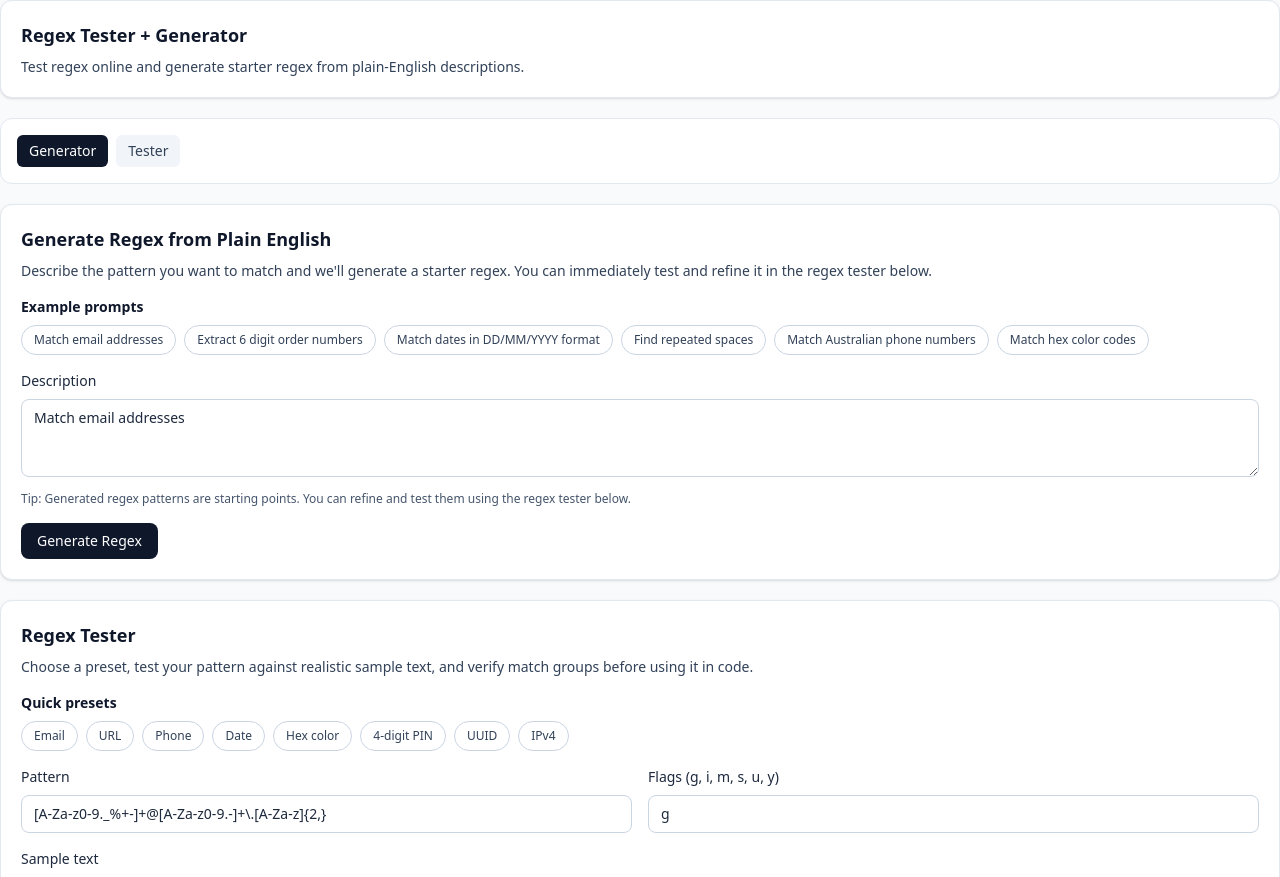
Test: RegexTesterTool › generates a suggestion and applies it to tester
The image size is (1280, 877).
Replace the text in the text box labelled "Description" with "Extract 6 digit order numbers". click: {"x": 640, "y": 438}
box: [21, 399, 1259, 477]
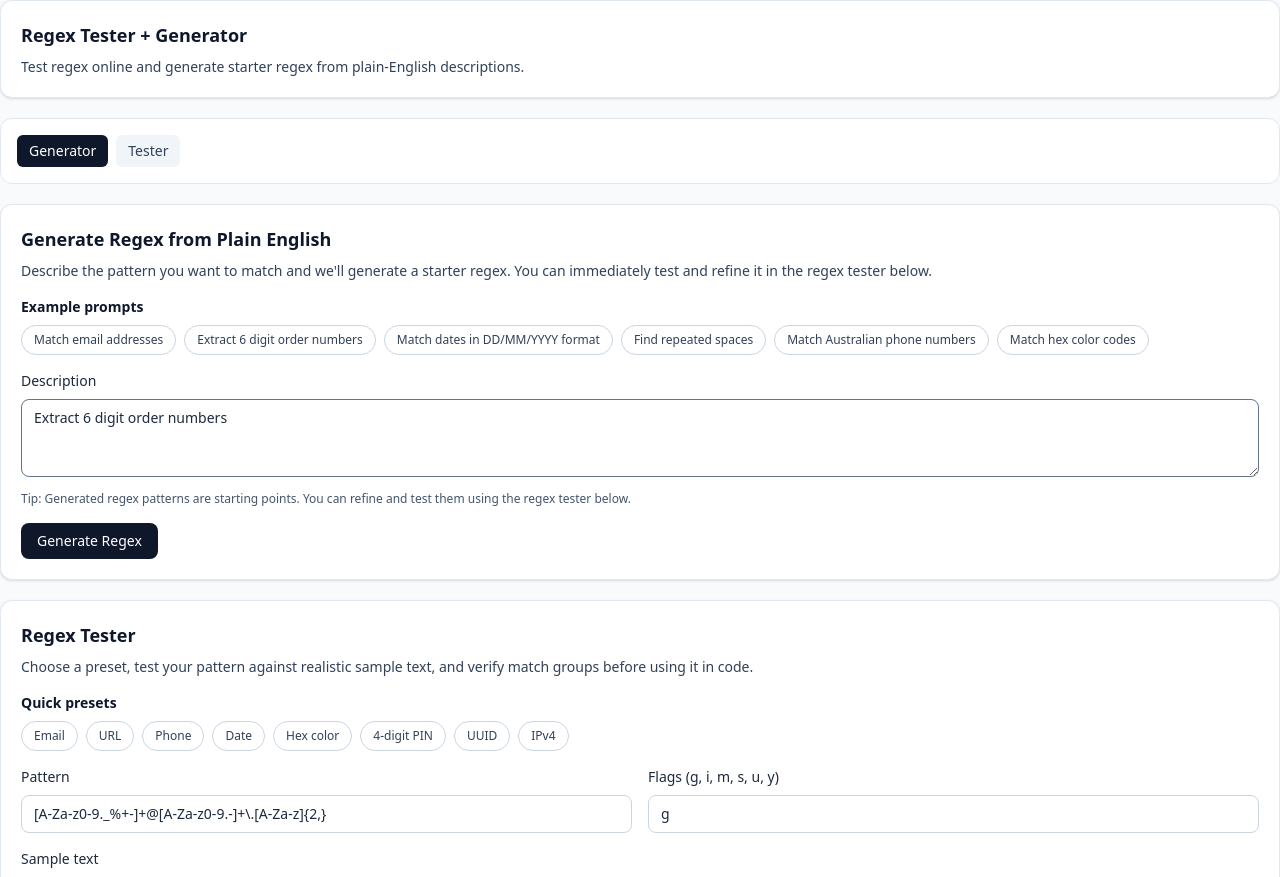
Click the button "Generate Regex". click: {"x": 89, "y": 541}
box: [21, 523, 158, 559]
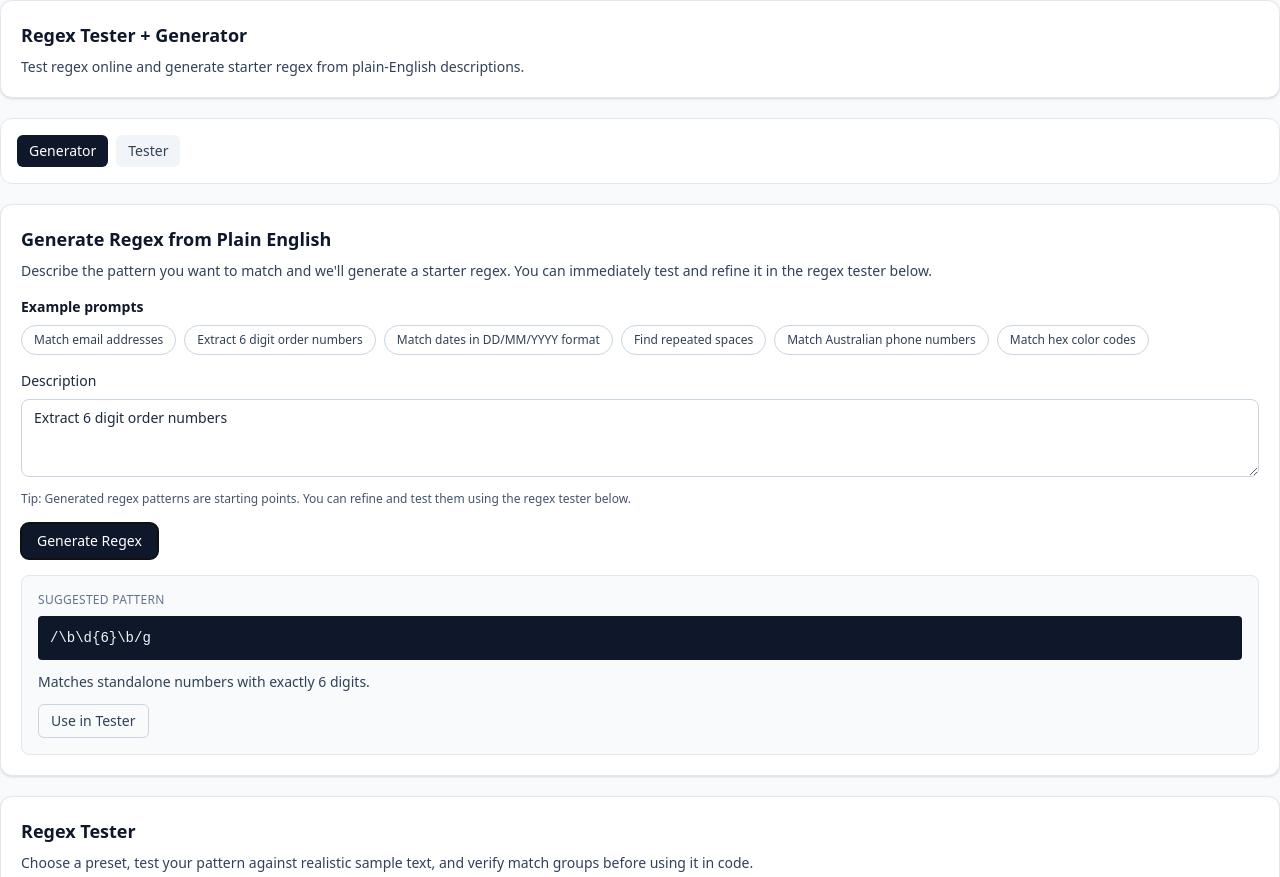
Check: the text "Suggested pattern" is shown, box [38, 591, 165, 608]
Click the button "Use in Tester". click: {"x": 93, "y": 721}
box: [38, 704, 148, 738]
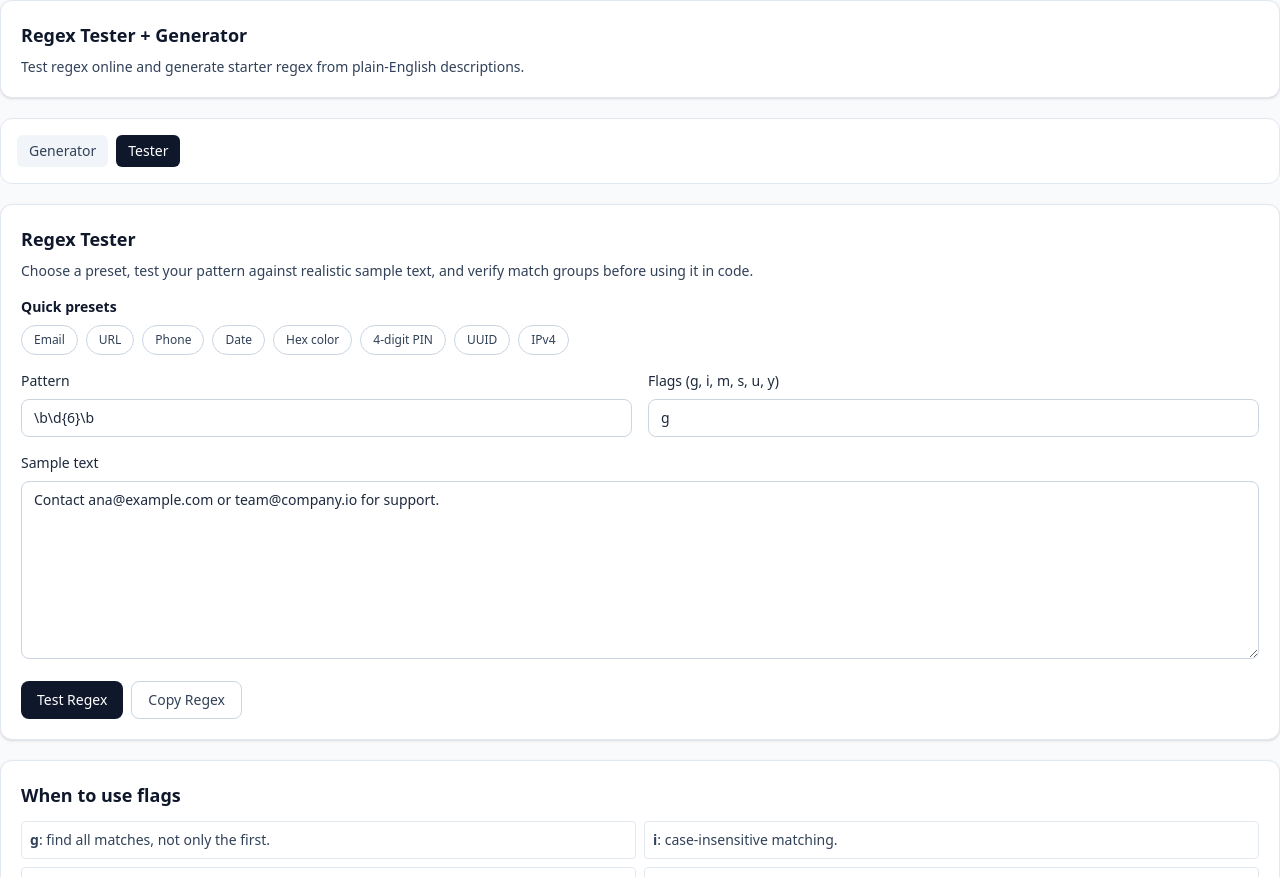
Check: the field showing "g" is shown, box [648, 399, 1259, 437]
Check: the field showing "\\b\\d{6}\\b" is shown, box [21, 399, 632, 437]
